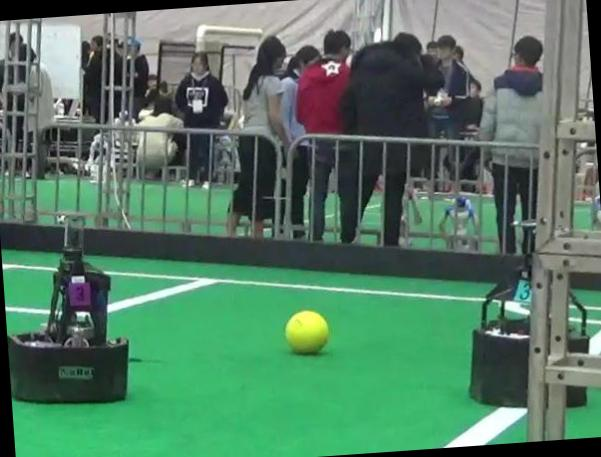ball: (284, 310, 328, 353)
robot: (7, 216, 127, 402), (469, 227, 534, 406)
